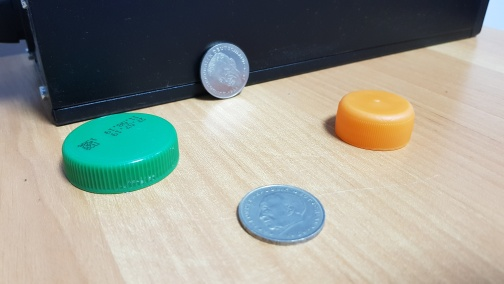coin: (237, 183, 327, 246), (200, 42, 250, 100)
